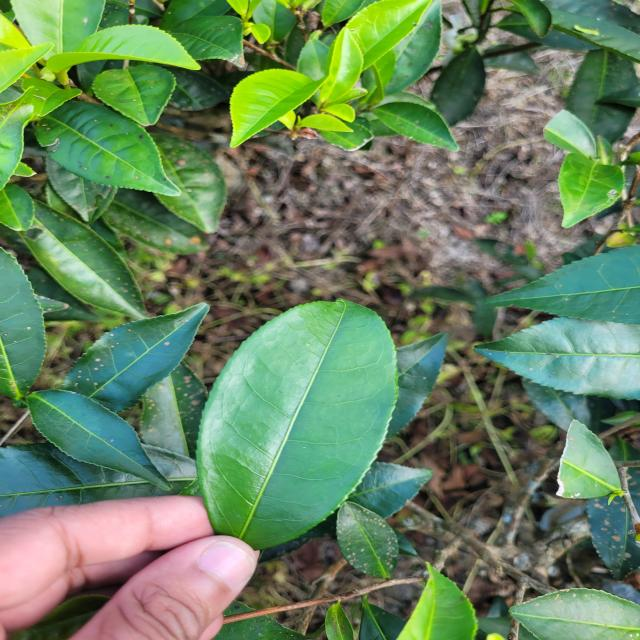Category D 7+ days, Not for Tea: (183, 290, 414, 558)
